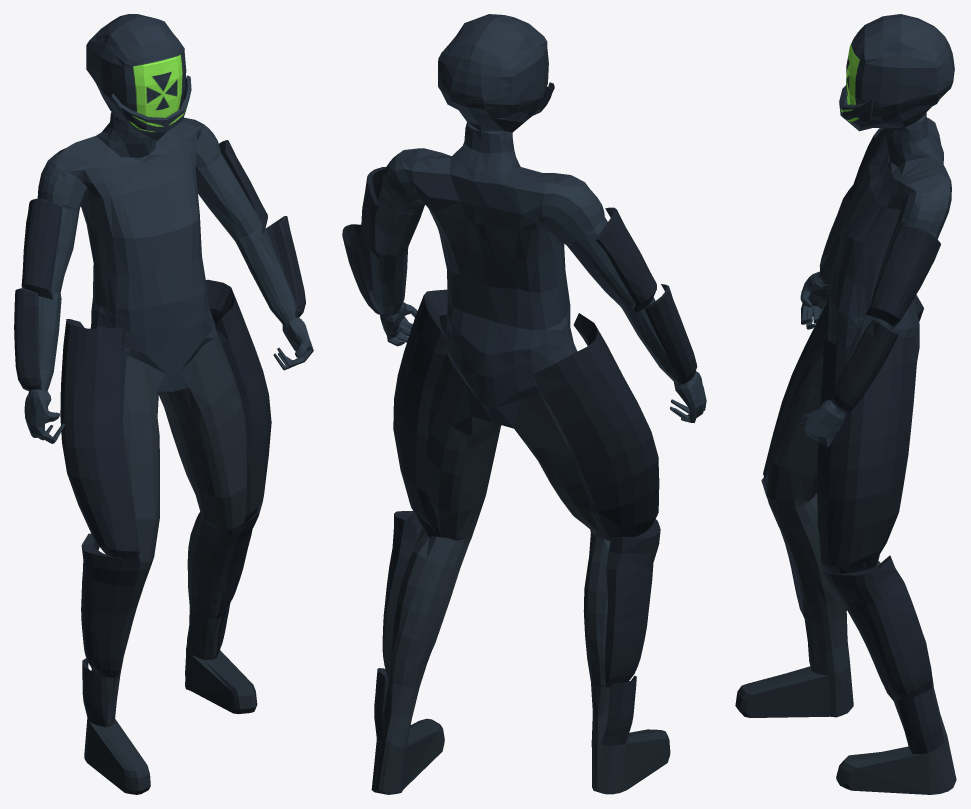
File: Bastion_Stun_000032.obj
The picture shows the model from 3 angles, left to right: view 1: azimuth 30°, elevation 25°; view 2: azimuth 150°, elevation 25°; view 3: azimuth 270°, elevation 25°; orthographic projection. The views are drawn at different scales.
Parts seen in each view (by area): view 1: Cube.002; view 2: Cube.002; view 3: Cube.002.
Part boxes in pixels (x1,y1,x2,y2): Cube.002: (14, 14, 313, 794); Cube.002: (342, 14, 706, 794); Cube.002: (735, 14, 956, 794).
Size of the model in its own units: 1.66 by 3.8 by 1.04.
